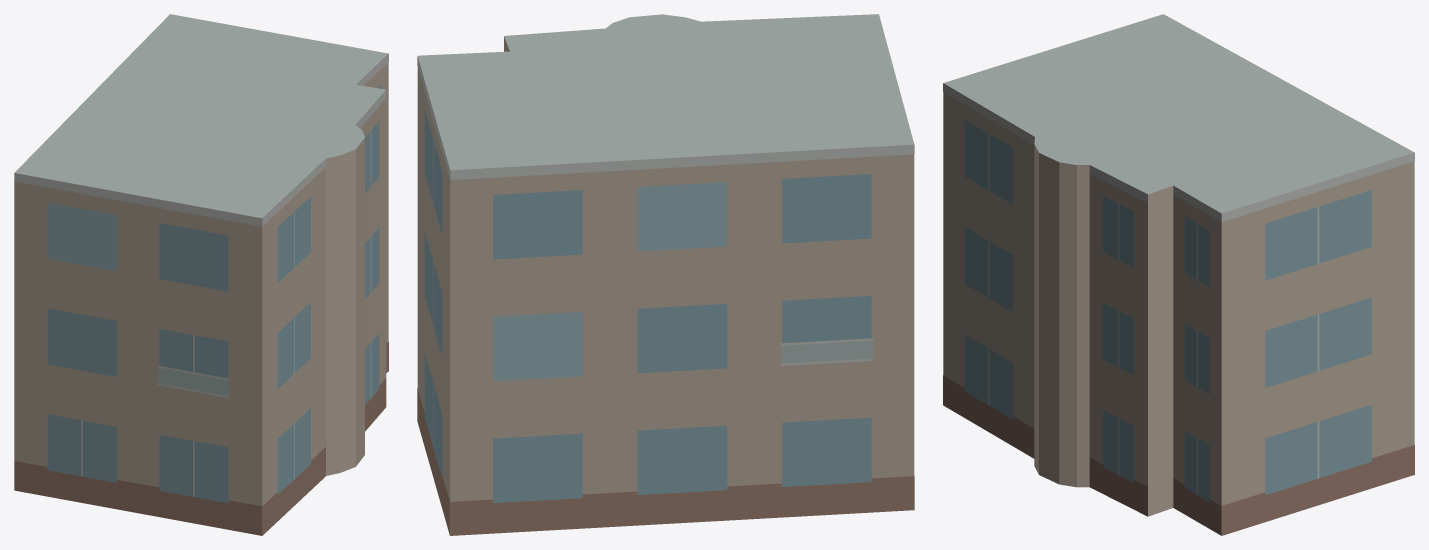
Rendered from survey-upis-32599614.glb.
3 views of the same model, side by side, from view 1: azimuth 30°, elevation 25°; view 2: azimuth 150°, elevation 25°; view 3: azimuth 270°, elevation 25° (orthographic). The views are drawn at different scales.
Visible parts, largest first — view 1: survey-upis-32599614.tmp; view 2: survey-upis-32599614.tmp; view 3: survey-upis-32599614.tmp.
Part boxes in pixels (left/top/right/bottom): survey-upis-32599614.tmp: left=14, top=14, right=388, bottom=535; survey-upis-32599614.tmp: left=417, top=14, right=914, bottom=535; survey-upis-32599614.tmp: left=943, top=14, right=1414, bottom=535.
Size of the model in its own units: 12.16 by 9.15 by 12.14.
